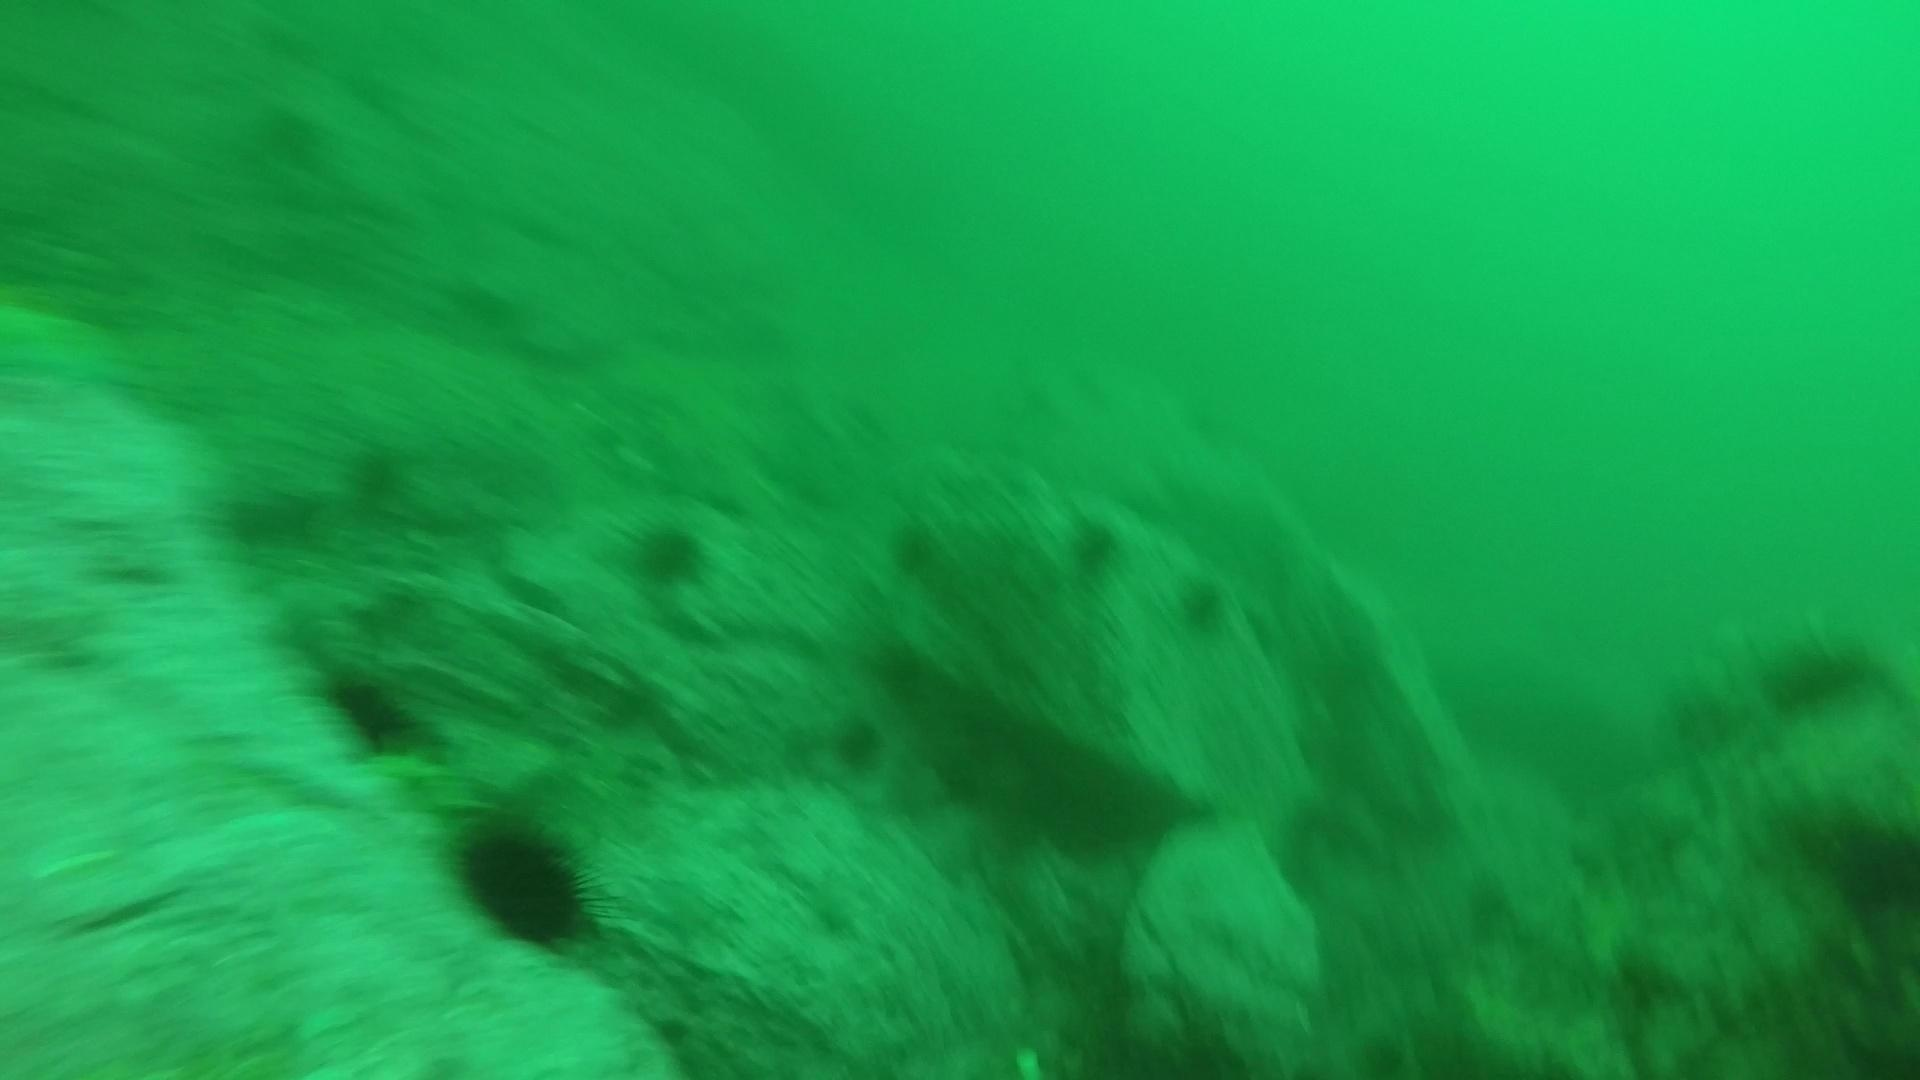echinus: (446, 808, 607, 955), (1807, 800, 1917, 916), (1756, 625, 1882, 721), (316, 661, 430, 758), (216, 477, 322, 553), (622, 514, 713, 591), (340, 436, 414, 509), (860, 622, 926, 694), (1062, 510, 1127, 580), (880, 516, 945, 585), (251, 96, 316, 166), (825, 709, 890, 775), (1172, 572, 1233, 637)
starfish: (1, 295, 142, 398)
